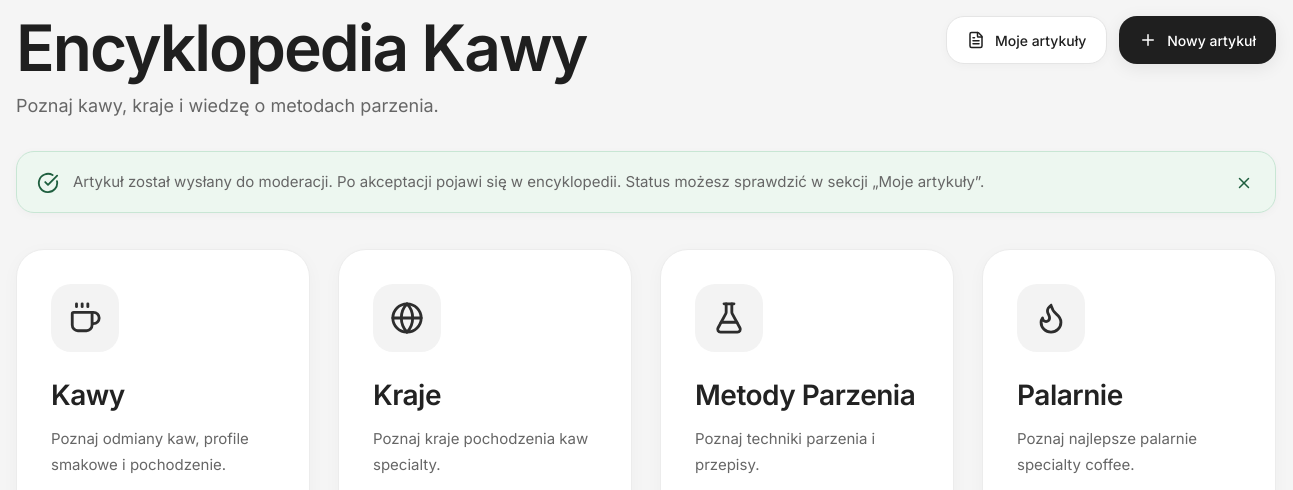
Test: WikiHome › shows submit success message from navigation state
This screenshot has width=1293, height=490.
Expected: the text "Artykuł został wysłany do moderacji" is shown, x1=73 y1=172 x2=984 y2=191
Click the button named "Zamknij komunikat".
click(1244, 182)  # box x1=1233 y1=170 x2=1255 y2=194
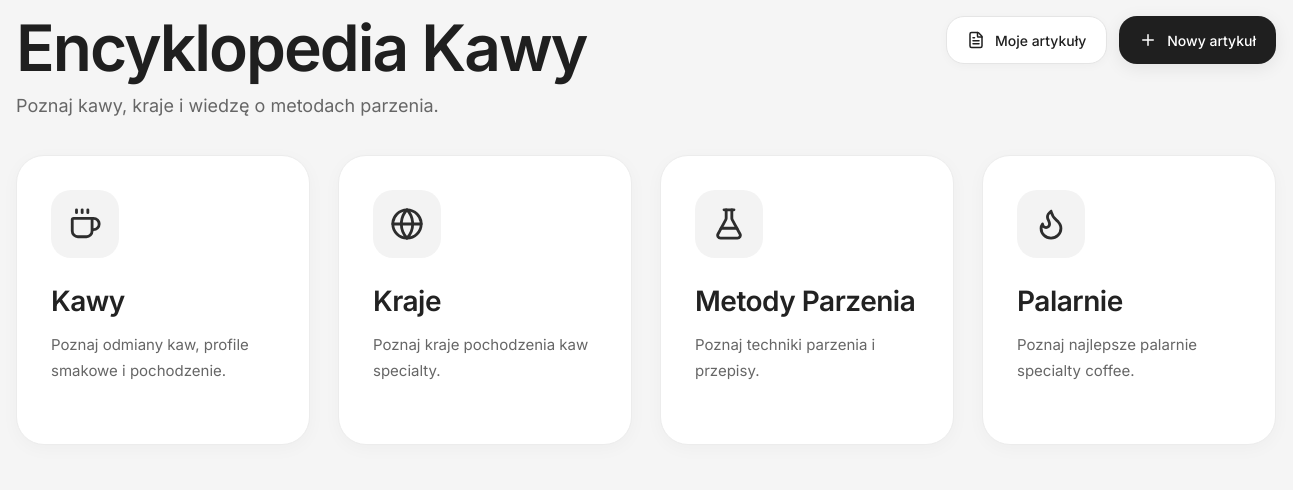
Now the text "Artykuł został wysłany do moderacji" is gone
